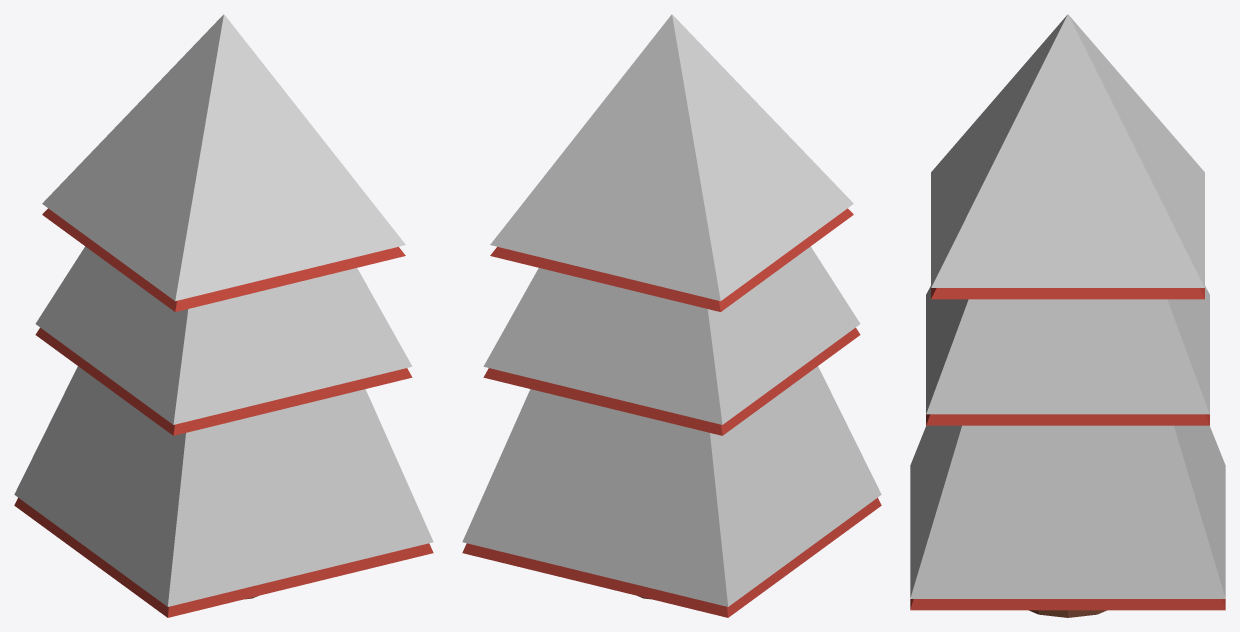
Rendered from Tree_18_winter_red_mat.fbx.
3 views of the same model, side by side, from view 1: azimuth 30°, elevation 25°; view 2: azimuth 150°, elevation 25°; view 3: azimuth 270°, elevation 25° (orthographic). The views are drawn at different scales.
Visible parts, largest first — view 1: Tree_18_winter_red_mat; view 2: Tree_18_winter_red_mat; view 3: Tree_18_winter_red_mat.
Part boxes in pixels (box(x1,y1,x2,y2)): Tree_18_winter_red_mat: box(14, 14, 433, 617); Tree_18_winter_red_mat: box(462, 14, 881, 617); Tree_18_winter_red_mat: box(910, 14, 1225, 617).
Bounding box in the file's own units: 95.96 × 194 × 95.96.
